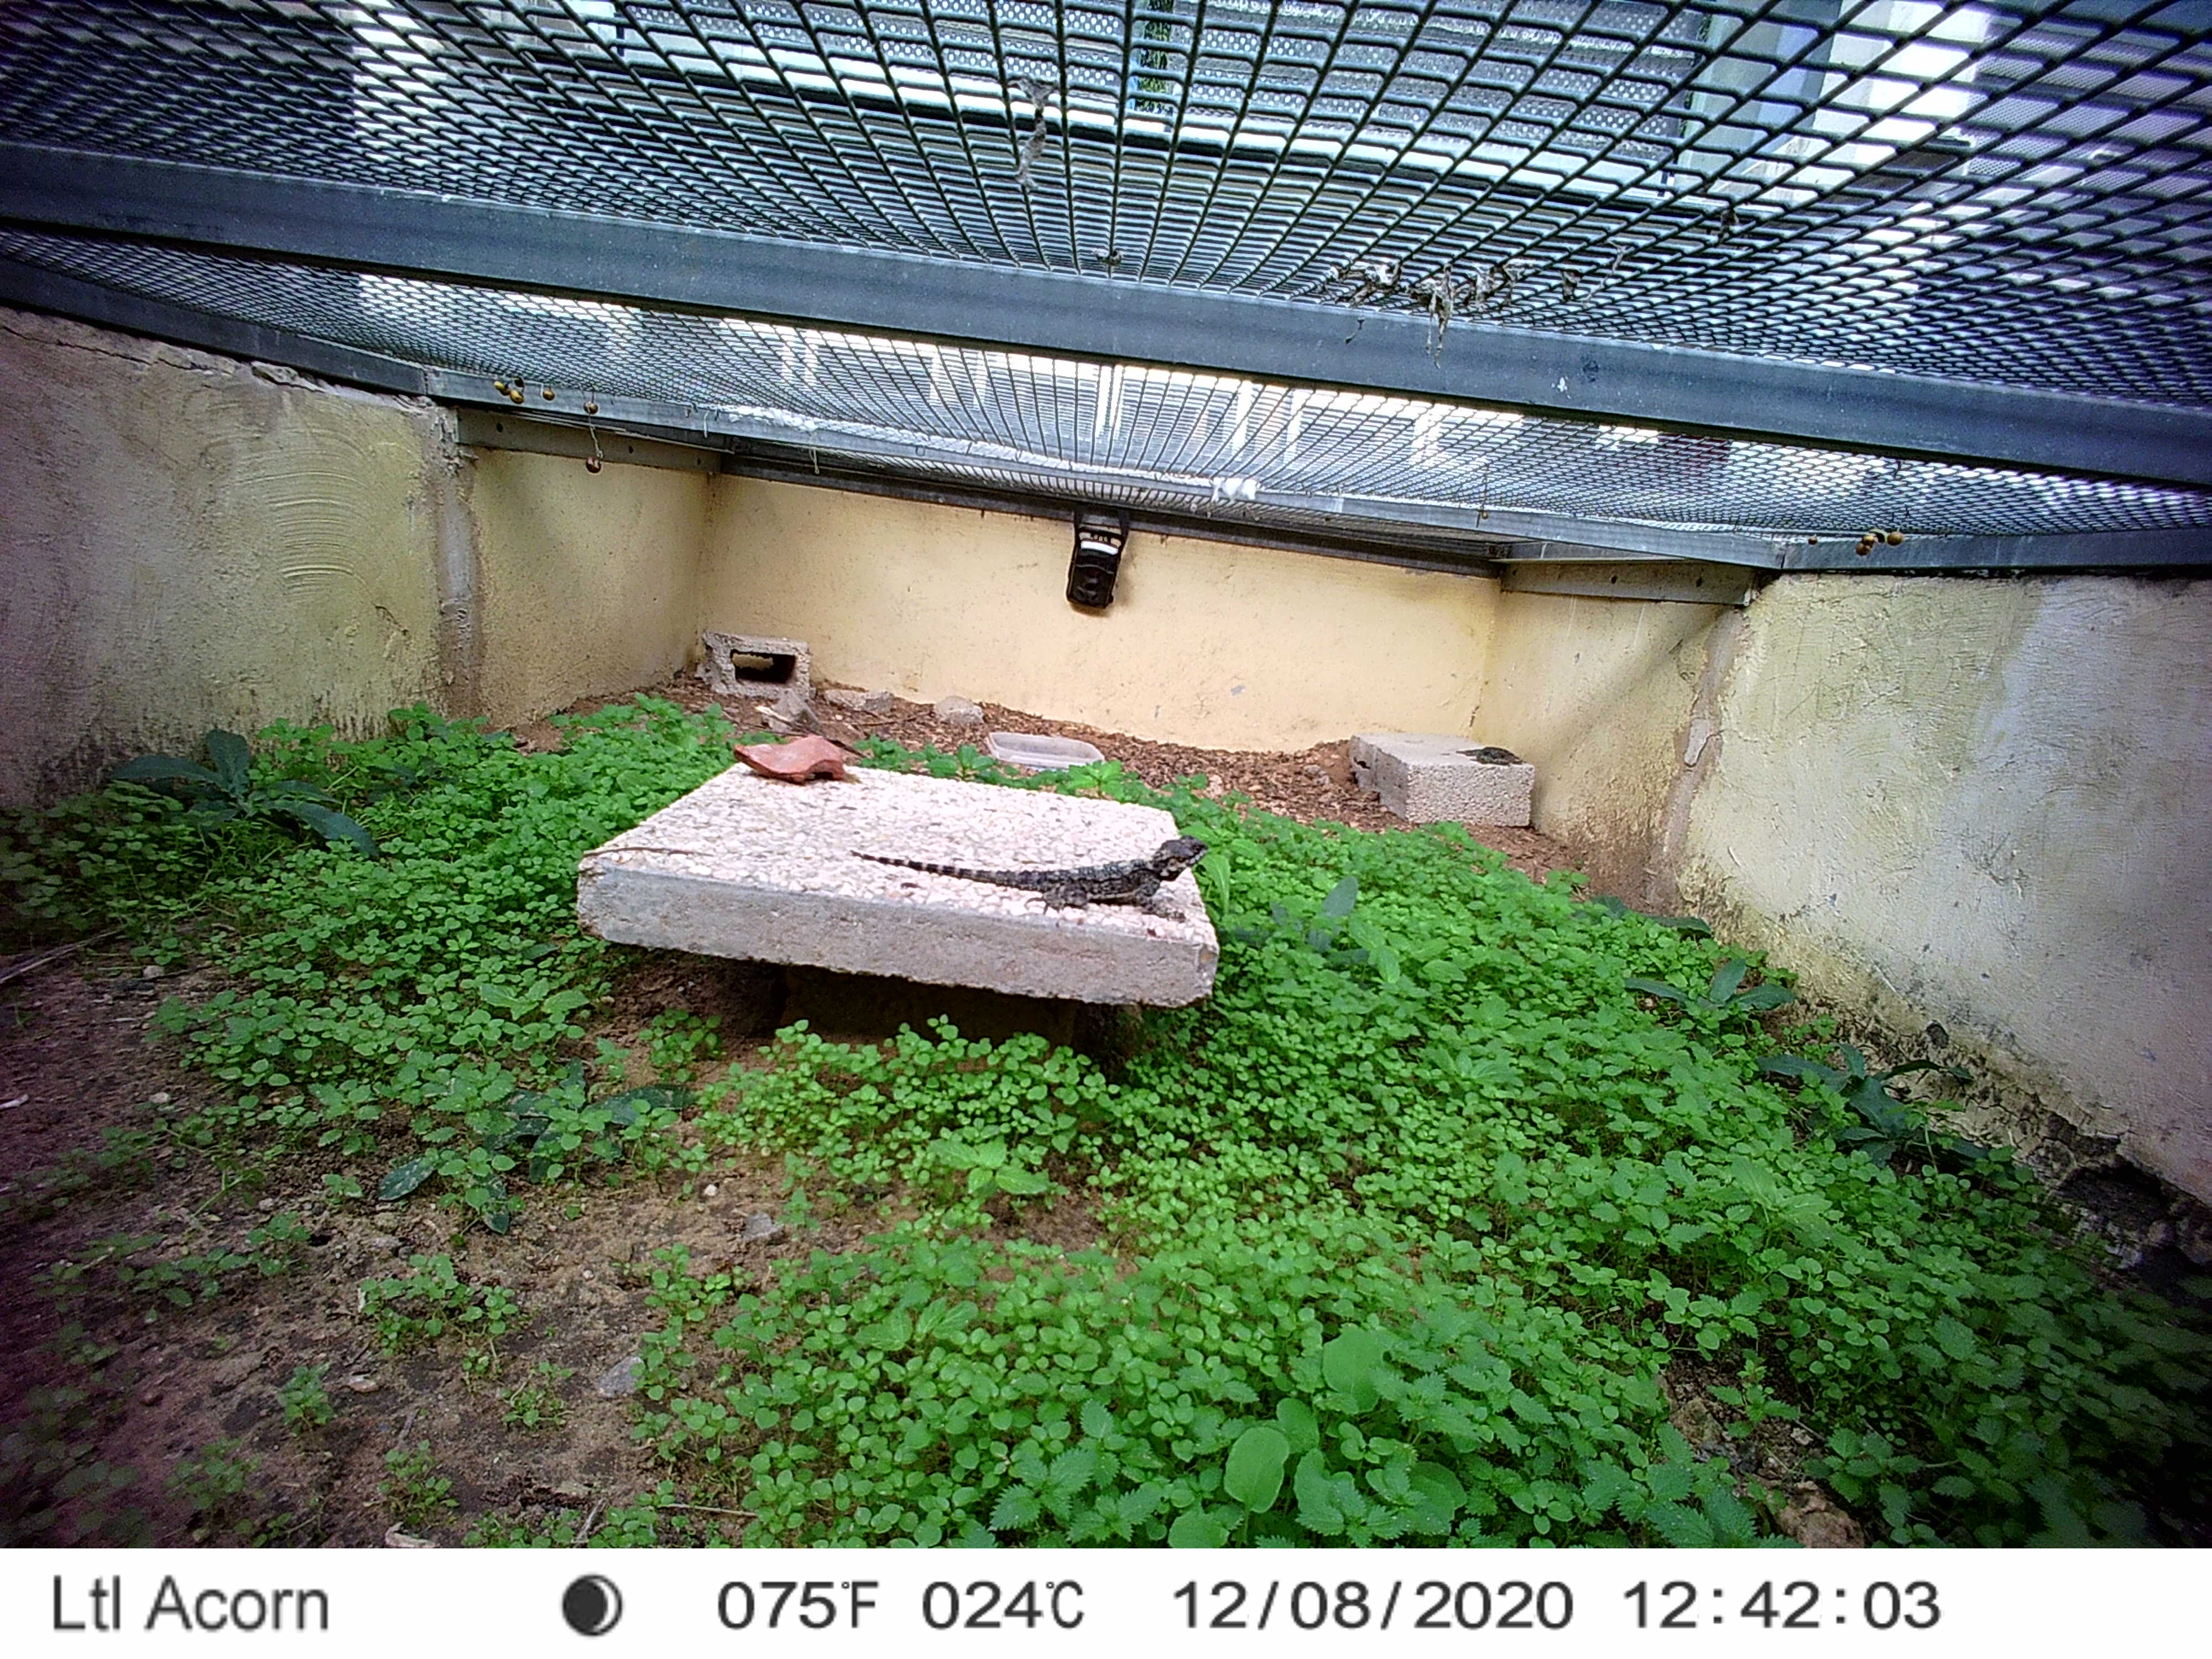lizard: (827, 835, 1211, 918), (1456, 741, 1531, 770)
